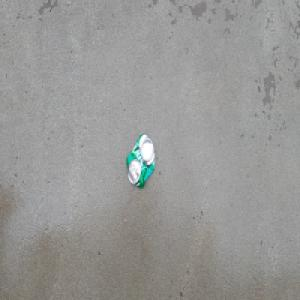SodaCan: (125, 132, 156, 189)
